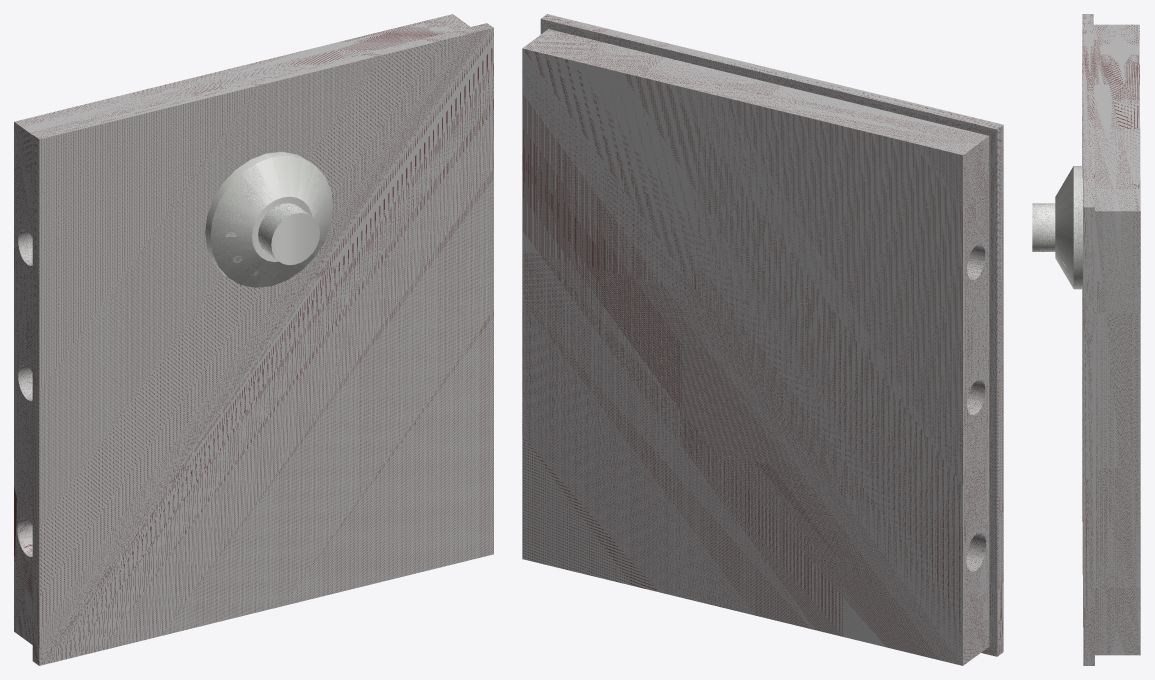
Rendered from board.dae.
3 views of the same model, side by side, from view 1: azimuth 30°, elevation 25°; view 2: azimuth 150°, elevation 25°; view 3: azimuth 270°, elevation 25° (orthographic). The views are drawn at different scales.
Parts seen in each view (by area): view 1: instance_22.050, instance_22.049, instance_23.031, instance_23.029; view 2: instance_22.049, instance_22.050; view 3: instance_22.049, instance_22.050, instance_23.031, instance_23.029.
Boxes of the visible parts, left/top/right/bottom form: instance_22.050: left=32, top=23, right=493, bottom=665; instance_22.049: left=14, top=14, right=470, bottom=644; instance_23.031: left=205, top=151, right=333, bottom=287; instance_23.029: left=258, top=203, right=319, bottom=265; instance_22.049: left=522, top=29, right=989, bottom=665; instance_22.050: left=540, top=14, right=1003, bottom=656; instance_22.049: left=1093, top=24, right=1140, bottom=655; instance_22.050: left=1082, top=14, right=1094, bottom=665; instance_23.031: left=1055, top=166, right=1082, bottom=289; instance_23.029: left=1032, top=203, right=1055, bottom=251.
Size of the model in its own units: 2 by 0.4729 by 2.21.
Materials: 6 (2 with a texture image).
